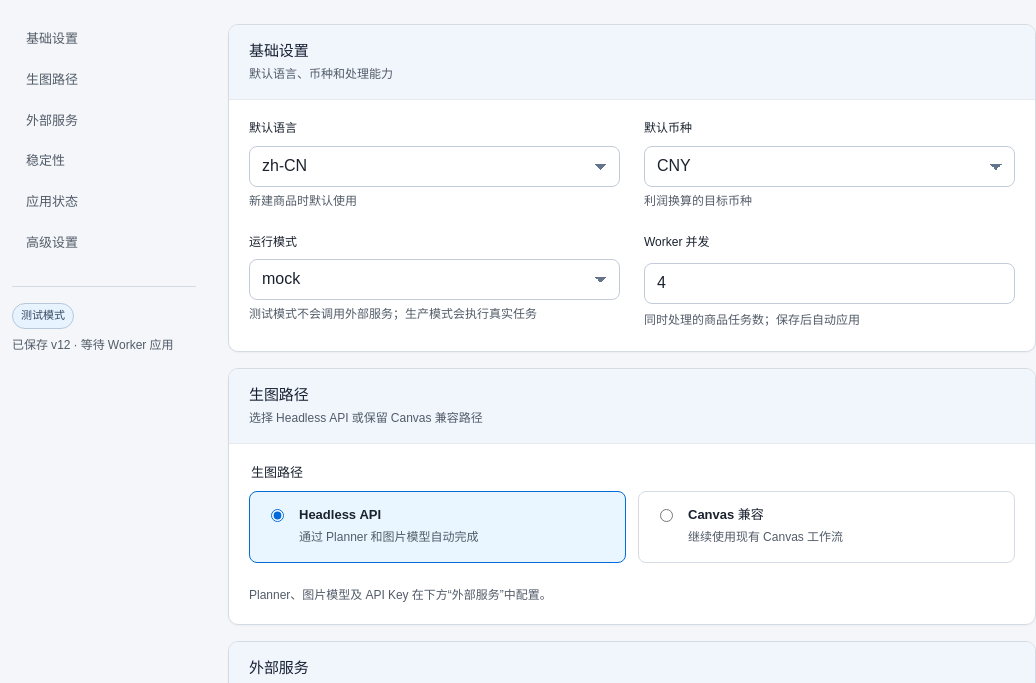
SettingsWorkspace › discard reverts all fields and hides the save bar
This screenshot has width=1036, height=683.
Step 1. Select "en-US" in the dropdown labelled "默认语言" → (434, 166), box [249, 146, 620, 187]
(page scrolled)
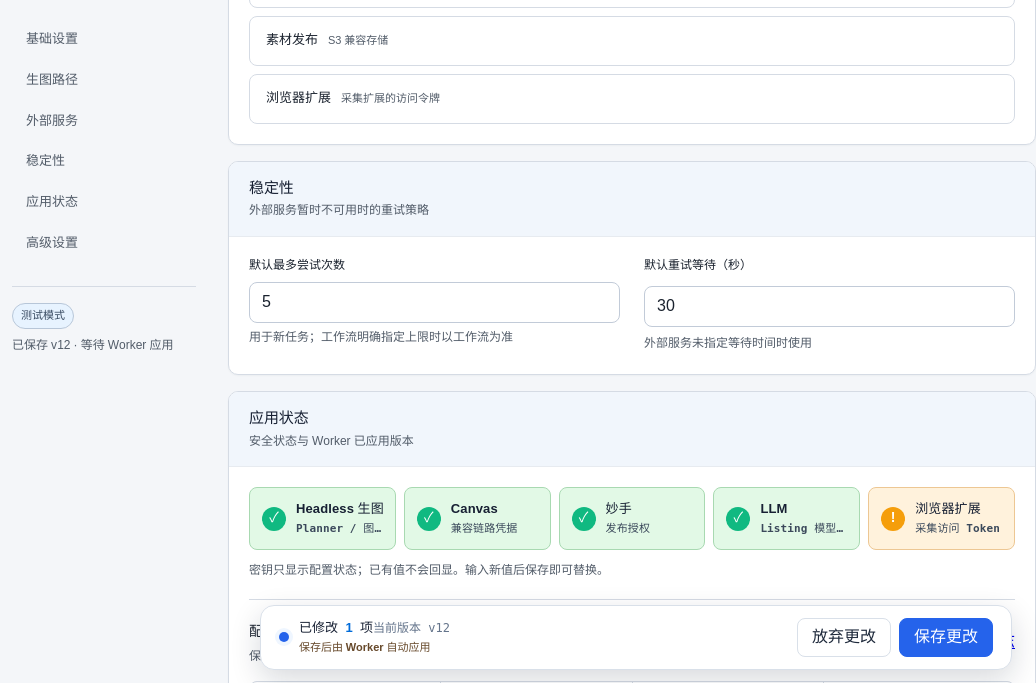
Step 2. Replace the text in the number field labelled "默认最多尝试次数" with "6" → (434, 303), box [249, 282, 620, 323]
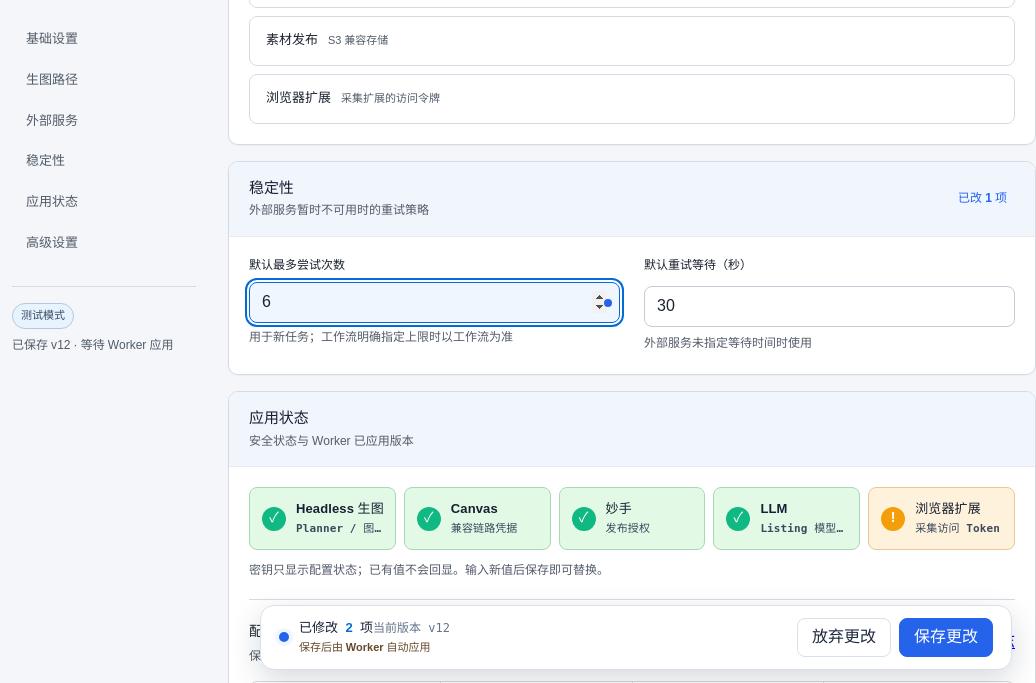
Check: the element named "保存栏" shows "2", box [345, 618, 353, 638]
Step 3. Click the button "放弃更改" → (844, 637), box [797, 618, 891, 657]
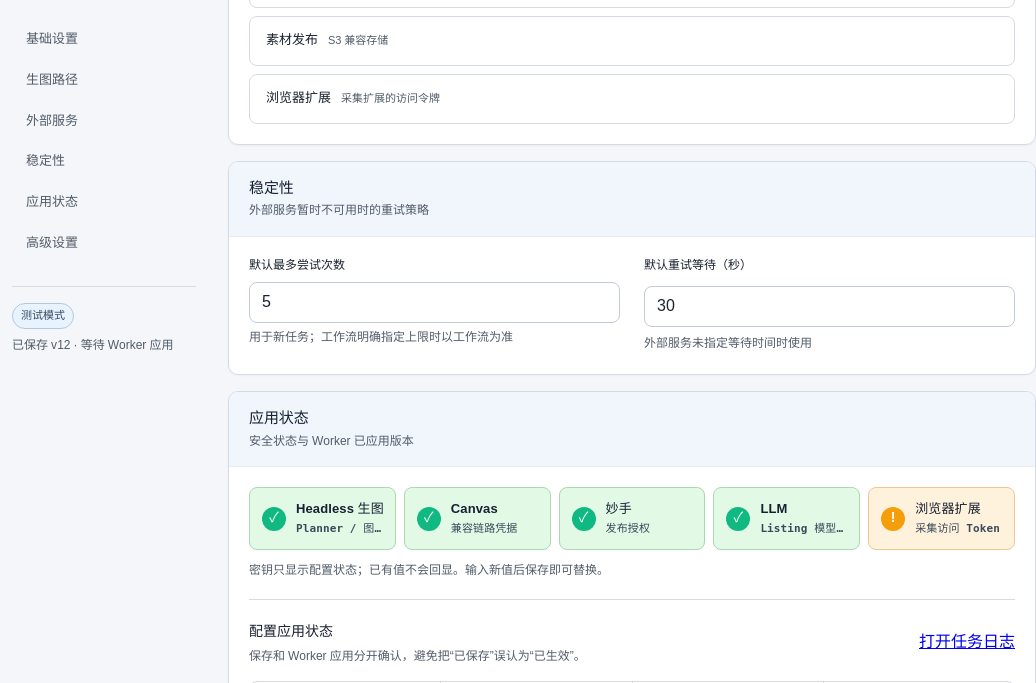
Check: the number field labelled "默认最多尝试次数" holds "5", box [249, 282, 620, 323]
Check: the element "保存栏" is gone
